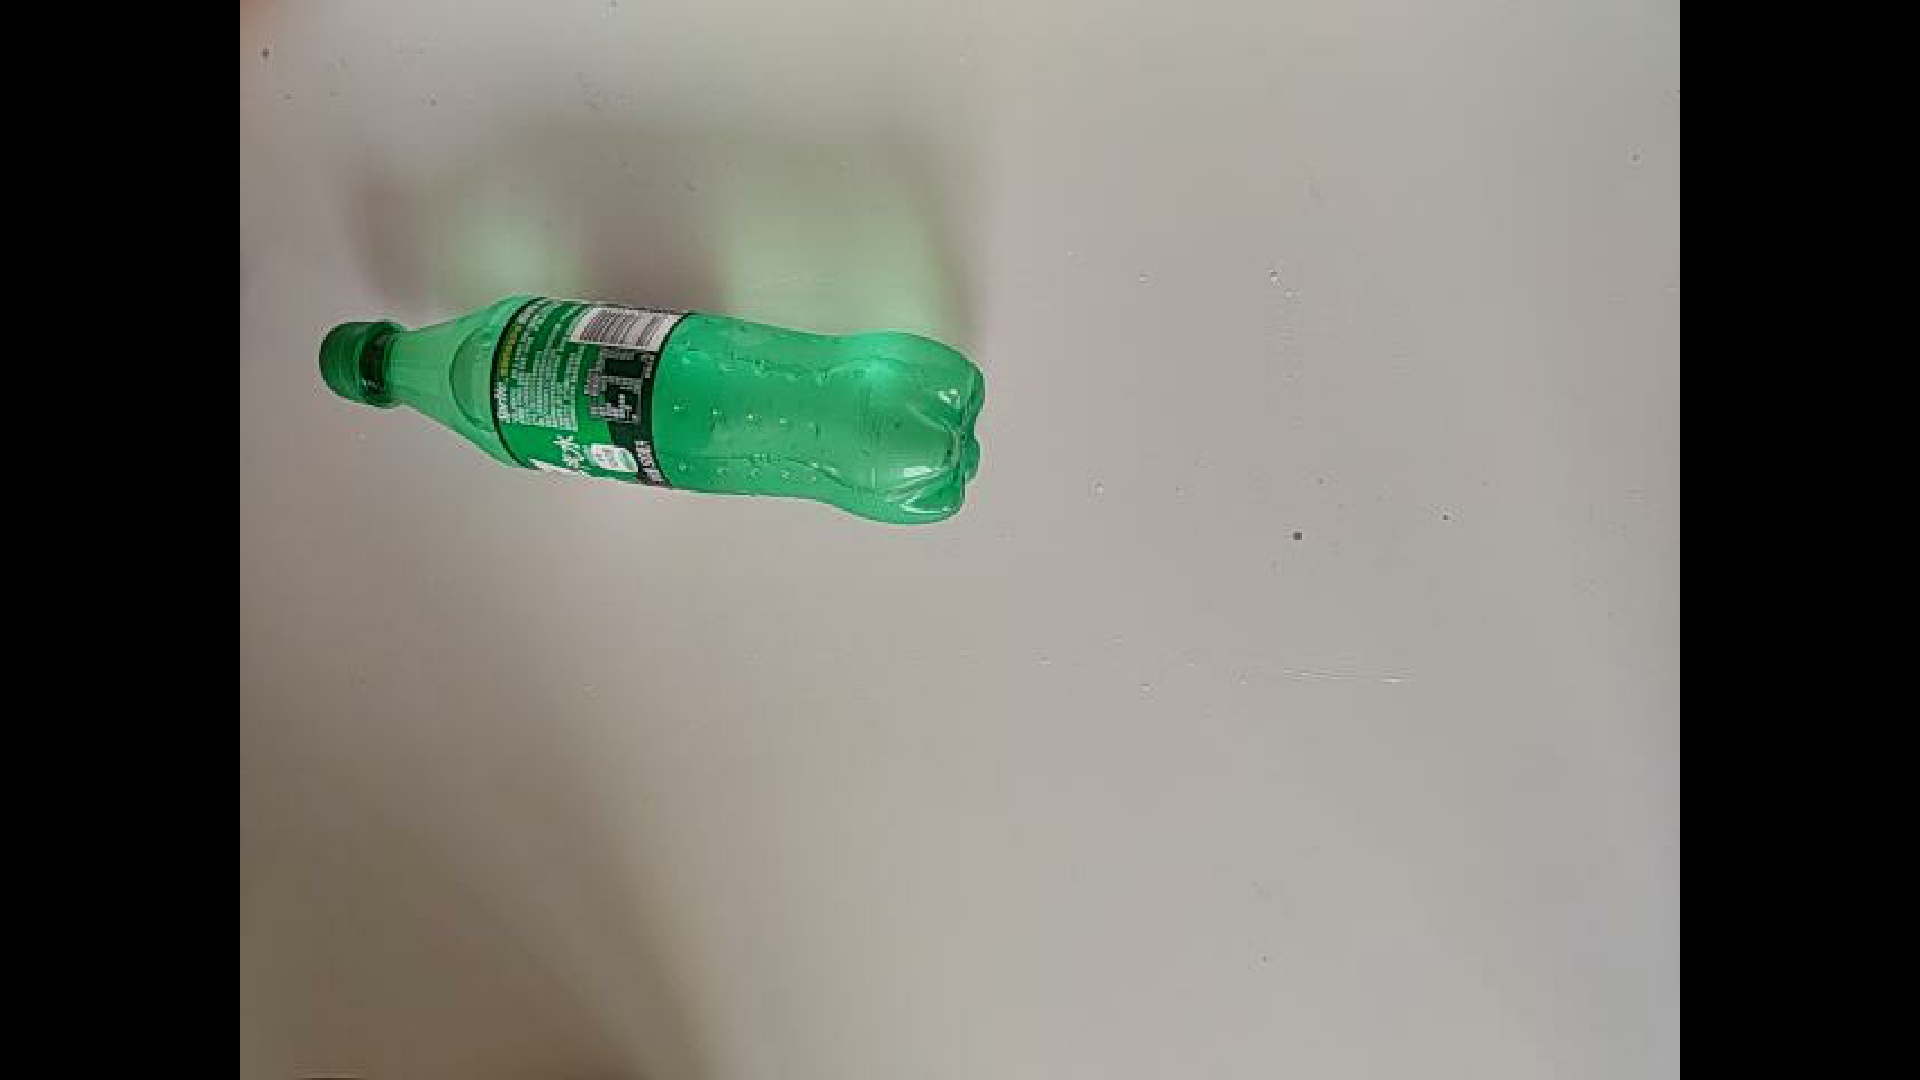sprite: (286, 258, 997, 500)
